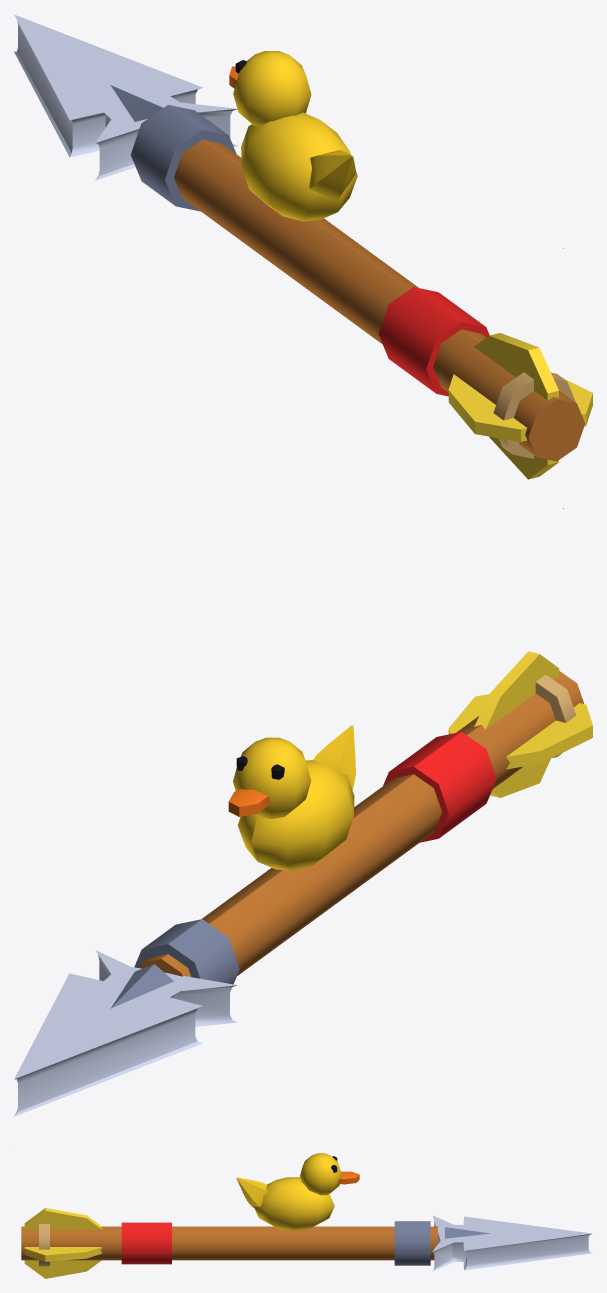
The model's file is harpoon.glb.
3 renders of one model, top to bottom at view 1: azimuth 30°, elevation 25°; view 2: azimuth 150°, elevation 25°; view 3: azimuth 270°, elevation 25°, orthographic. The views are drawn at different scales.
Visible parts, largest first — view 1: Harpoon; view 2: Harpoon; view 3: Harpoon.
Boxes of the visible parts, x1,y1,x2,y2 form: Harpoon: [14, 14, 592, 479]; Harpoon: [14, 508, 592, 1116]; Harpoon: [21, 1153, 592, 1278].
Size of the model in its own units: 0.24 by 0.4038 by 1.6.
2 materials, 1 textured.
